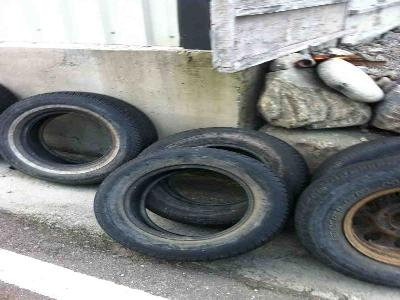tire: (93, 146, 292, 259), (138, 126, 310, 227), (1, 91, 158, 188), (293, 156, 400, 287)
